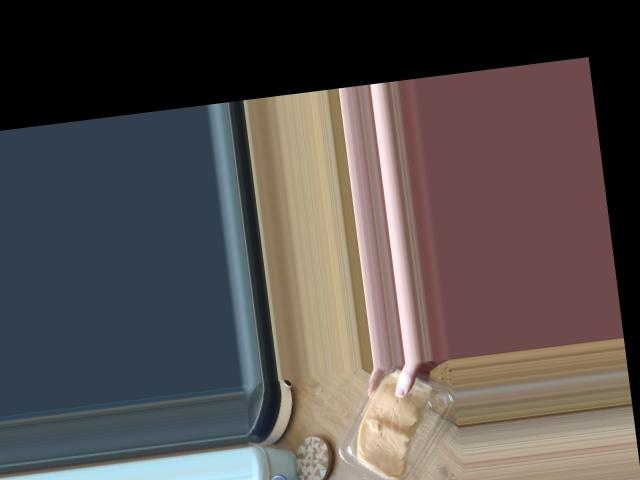cheese: (320, 368, 463, 480)
